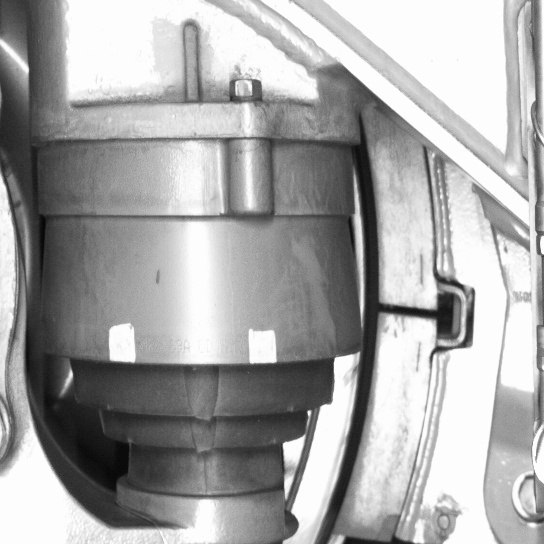KnifeSwitch: (312, 140, 455, 542)
